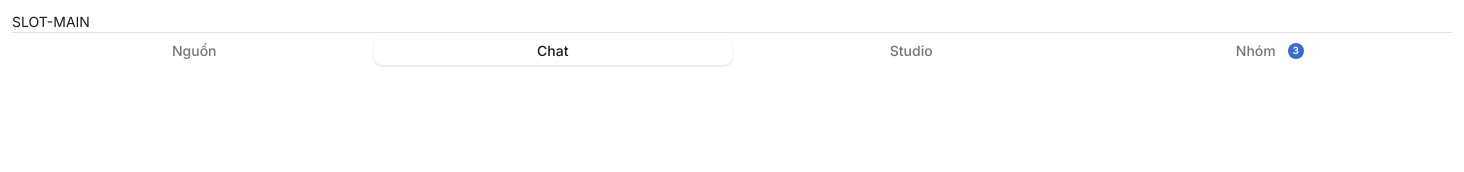
Test: NotebookWorkspace › <1024px có chat nhóm: thêm tab Nhóm (mở được) và huy hiệu tin chưa đọc
Expected: the text with test id "mobile-team-unread-badge" reads "3", [1292,44,1299,56]
Expected: the text "SLOT-TEAM" is not shown
Click the tab with test id "mobile-tab-team" at (1270, 50), box [1090,36,1449,64]
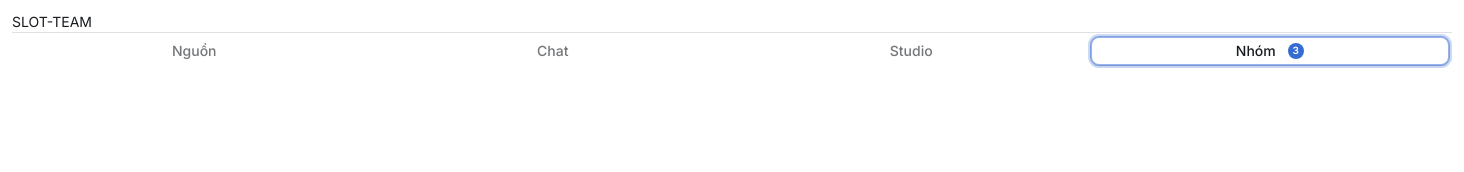
Now the text "SLOT-TEAM" is shown, box [12,13,92,30]
